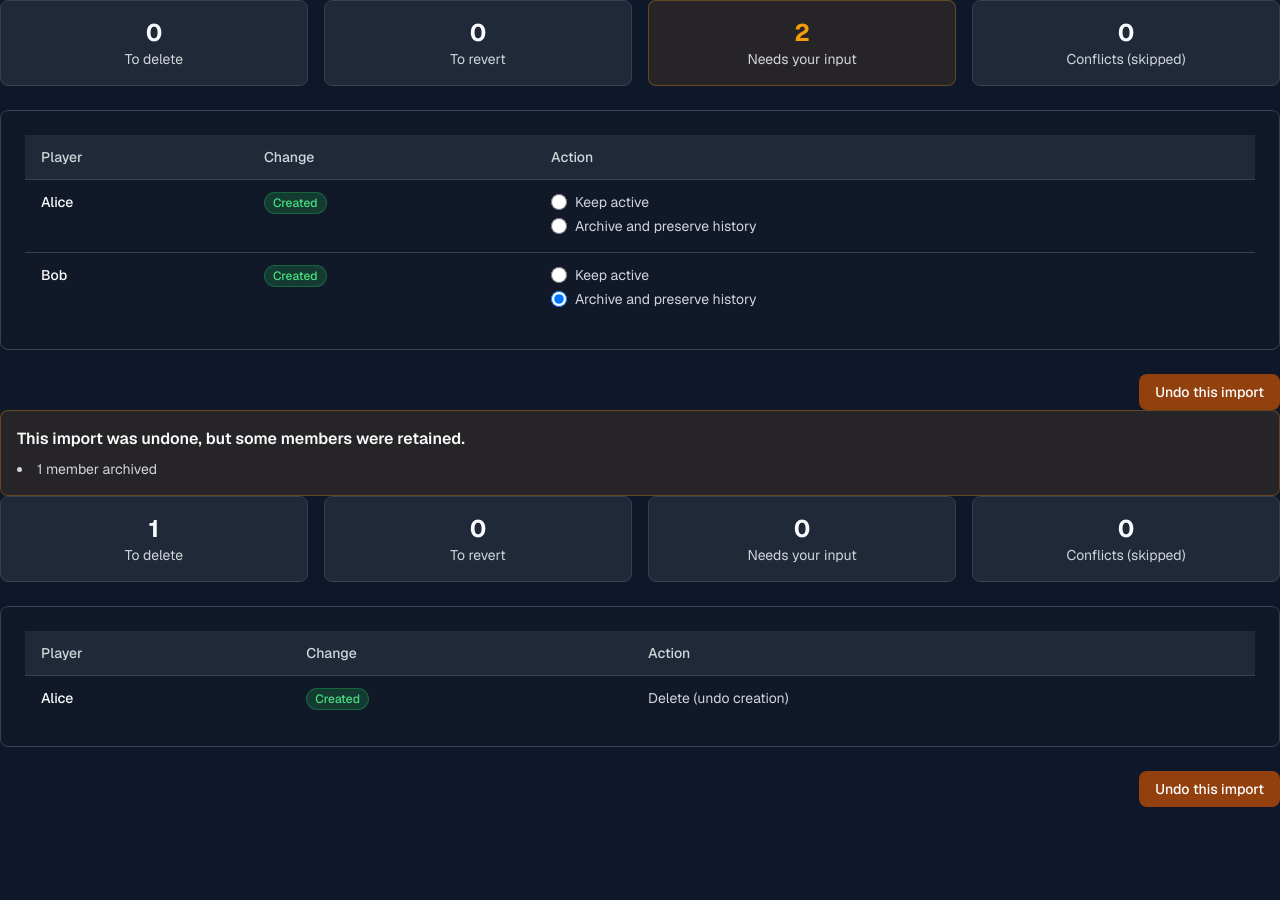
Scenario: RollbackUndoForm › surfaces a server-side rejection inline via the confirm dialog instead of losing it
The width and height of the screenshot is (1280, 900).
Click the 2nd button "Undo this import".
click(1210, 789)  # box [1139,771,1279,807]
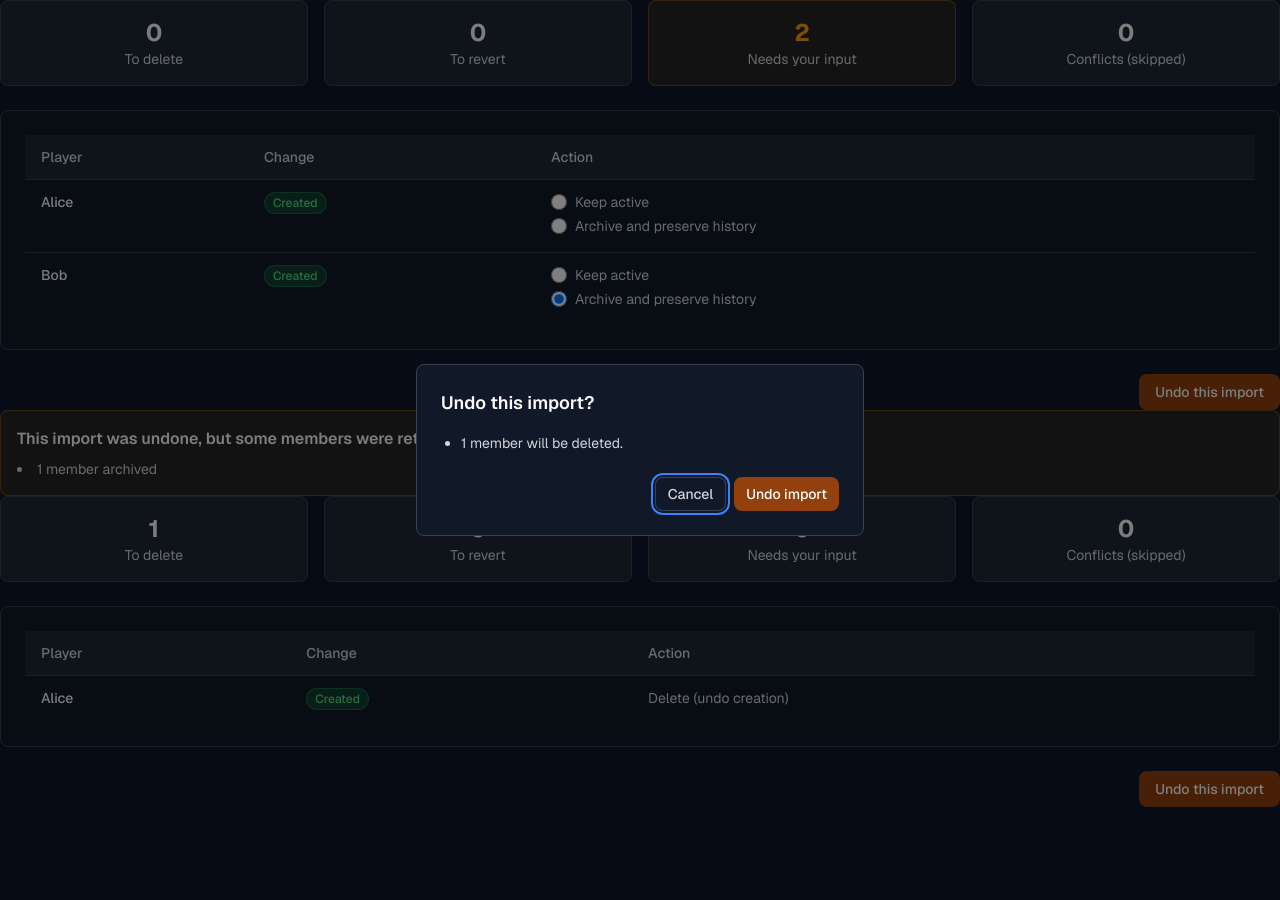
Click the button "Undo import".
click(787, 494)  # box [734,477,839,511]
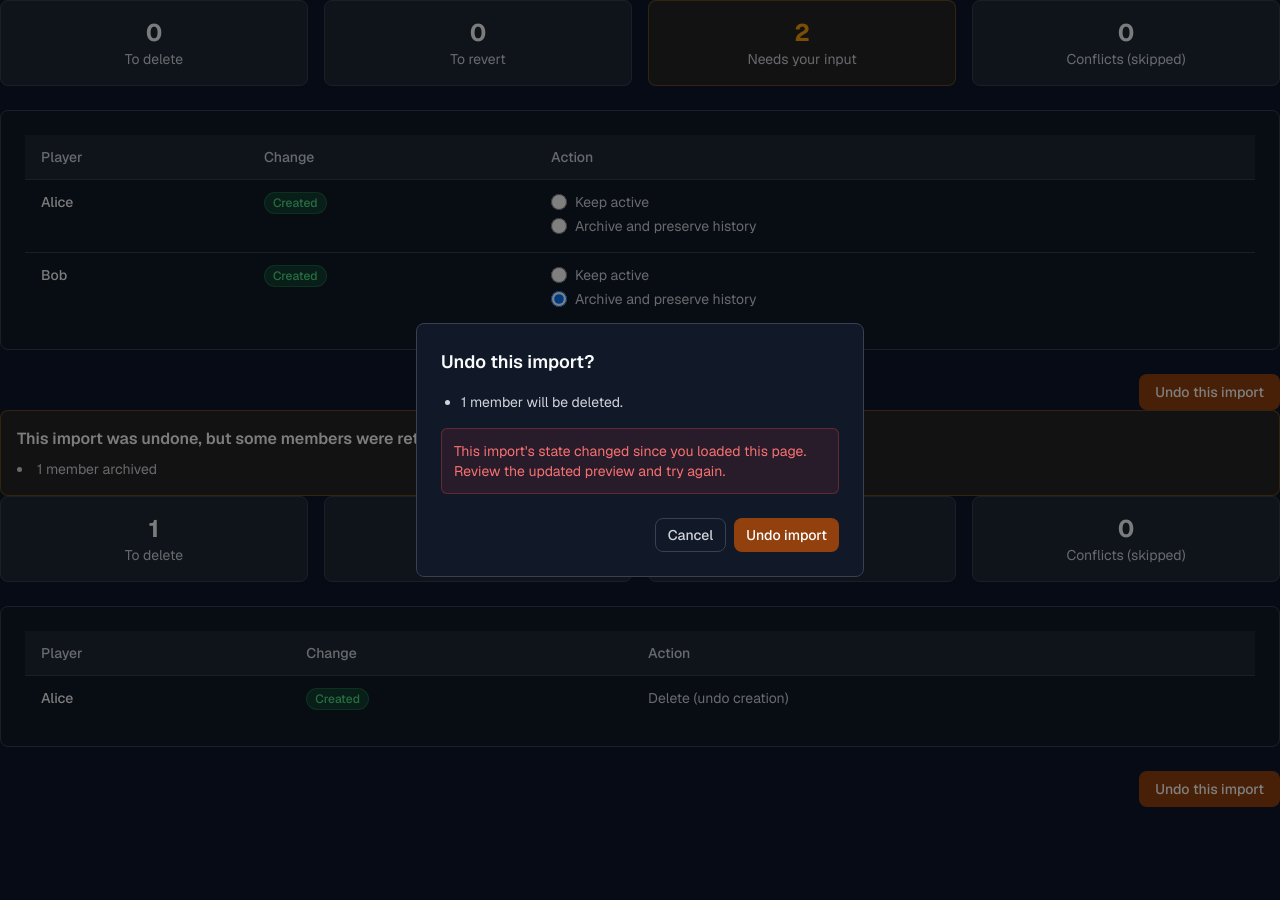
Expected: the text "This import's state changed since you loaded this page" is shown, [454,442,806,480]
